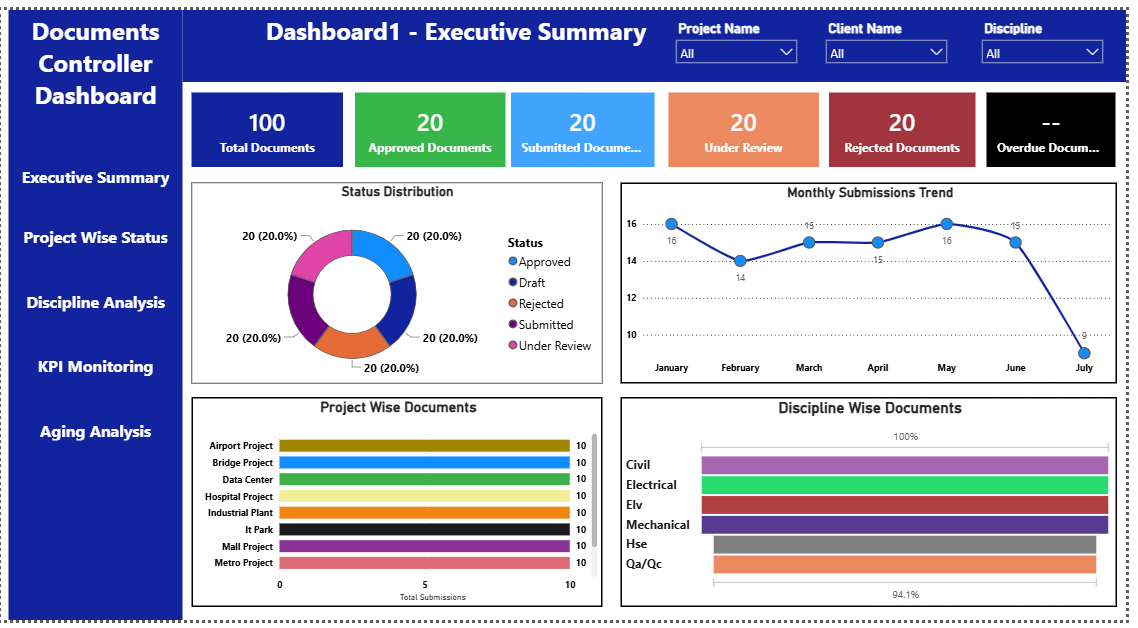

The page's visual inventory and layout, read from the dashboard file:
{"tool":"powerbi","page":{"name":"Dashboard","canvas":[1500,813],"ordinal":0},"visuals":[{"type":"textbox","box":[10,0,232,814],"z":0,"group":"g1"},{"type":"textbox","box":[241.3,0,1258.1,95.8],"z":0},{"type":"cardVisual","fields":{"Data":["Document Register.Total Documents"]},"box":[253.7,110,202.3,99.4],"z":1000},{"type":"actionButton","box":[10,187.1,232,67.4],"z":1000,"group":"g1"},{"type":"cardVisual","fields":{"Data":["Document Register.Approved Documents"]},"box":[472,110,200.5,99.4],"z":2000},{"type":"actionButton","box":[10,267.6,232,67.4],"z":2000,"group":"g1"},{"type":"cardVisual","fields":{"Data":["Document Register.Submitted Documents"]},"box":[679.6,110,191.6,99.4],"z":3000},{"type":"actionButton","box":[10,353.7,232,67.4],"z":3000,"group":"g1"},{"type":"cardVisual","fields":{"Data":["Document Register.Under Review"]},"box":[889,110,200.5,99.4],"z":4000},{"type":"actionButton","box":[10,439.7,232,67.4],"z":4000,"group":"g1"},{"type":"cardVisual","fields":{"Data":["Document Register.Rejected Documents"]},"box":[1103.7,110,195.2,99.4],"z":5000},{"type":"actionButton","box":[10,525.8,232,67.4],"z":5000,"group":"g1"},{"type":"cardVisual","fields":{"Data":["Document Register.Overdue Documents"]},"box":[1314.9,110,172.1,99.4],"z":6000},{"type":"donutChart","title":"Status Distribution","fields":{"Category":["Document Register.Status"],"Y":["CountNonNull(Document Register.Status)"]},"box":[253.7,230.7,548.3,267.9],"z":7000},{"type":"lineChart","title":"Monthly Submissions Trend","fields":{"Category":["Document Register.Submission Date.Variation.Date Hierarchy.Month"],"Y":["Document Register.Total Submissions"]},"box":[825.1,230.7,661.9,267.9],"z":8000},{"type":"barChart","title":"Project Wise Documents","fields":{"Category":["Document Register.Project Name"],"Y":["Document Register.Total Submissions"]},"box":[254,516,548,280],"z":9000},{"type":"slicer","fields":{"Values":["Document Register.Project Name"]},"box":[889,8.9,181,77],"z":10000},{"type":"slicer","fields":{"Values":["Document Register.Client Name"]},"box":[1089.5,8.9,181,77],"z":11000},{"type":"slicer","fields":{"Values":["Document Register.Discipline"]},"box":[1298.9,8.9,181,77],"z":12000},{"type":"group","id":"g1","title":"Group 1","box":[10,0,232,814],"z":13000},{"type":"funnel","title":"Discipline Wise Documents","fields":{"Category":["Document Register.Discipline"],"Y":["CountNonNull(Document Register.Document Number)"]},"box":[825,516,662,280],"z":14000}]}

Visuals, with their boxes in screenshot pixels (x1, y1, x2, y2), scaled from the page's 1500x813 canvas onto the 1138x628 screenshot:
textbox: left=8, top=0, right=184, bottom=627
textbox: left=183, top=0, right=1137, bottom=74
cardVisual - Document Register.Total Documents: left=192, top=85, right=346, bottom=162
actionButton: left=8, top=145, right=184, bottom=197
cardVisual - Document Register.Approved Documents: left=358, top=85, right=510, bottom=162
actionButton: left=8, top=207, right=184, bottom=259
cardVisual - Document Register.Submitted Documents: left=516, top=85, right=661, bottom=162
actionButton: left=8, top=273, right=184, bottom=325
cardVisual - Document Register.Under Review: left=674, top=85, right=827, bottom=162
actionButton: left=8, top=340, right=184, bottom=392
cardVisual - Document Register.Rejected Documents: left=837, top=85, right=985, bottom=162
actionButton: left=8, top=406, right=184, bottom=458
cardVisual - Document Register.Overdue Documents: left=998, top=85, right=1128, bottom=162
"Status Distribution" donutChart: left=192, top=178, right=608, bottom=385
"Monthly Submissions Trend" lineChart: left=626, top=178, right=1128, bottom=385
"Project Wise Documents" barChart: left=193, top=399, right=608, bottom=615
slicer - Document Register.Project Name: left=674, top=7, right=812, bottom=66
slicer - Document Register.Client Name: left=827, top=7, right=964, bottom=66
slicer - Document Register.Discipline: left=985, top=7, right=1123, bottom=66
"Group 1" group: left=8, top=0, right=184, bottom=627
"Discipline Wise Documents" funnel: left=626, top=399, right=1128, bottom=615
